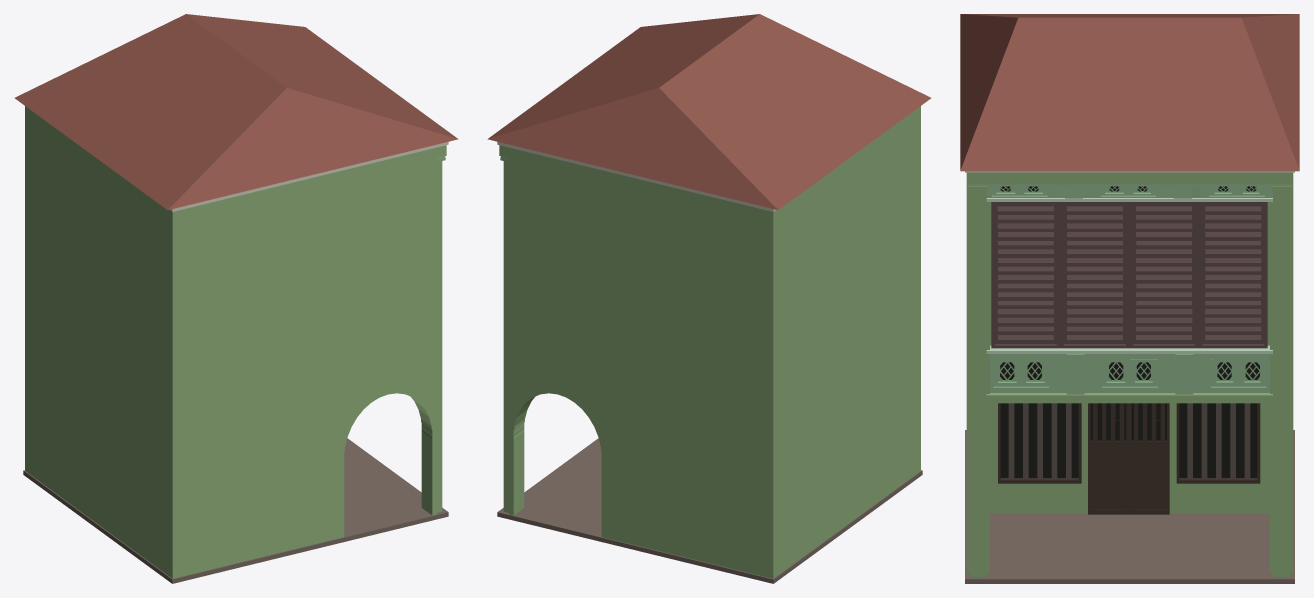
File: 1860 Shophouse.fbx
The picture shows the model from 3 angles, left to right: view 1: azimuth 30°, elevation 25°; view 2: azimuth 150°, elevation 25°; view 3: azimuth 270°, elevation 25°; orthographic projection. The views are drawn at different scales.
Visible parts, largest first — view 1: Cube, Cylinder, Cube.004, Cube.001; view 2: Cube, Cylinder, Cube.004, Cube.001; view 3: Cylinder, Cube.013, Cube, Cube.004, Cube.011, Cube.016, Cube.009, Cube.019, Cube.015, Cube.006, Cube.002, Cube.005 (+8 smaller).
Part boxes in pixels (<box>): Cube: <box>25,106,446,578</box>; Cylinder: <box>14,14,458,210</box>; Cube.004: <box>23,438,448,583</box>; Cube.001: <box>170,142,448,211</box>; Cube: <box>499,106,920,578</box>; Cylinder: <box>487,14,931,210</box>; Cube.004: <box>497,438,922,583</box>; Cube.001: <box>497,142,775,211</box>; Cylinder: <box>960,14,1299,171</box>; Cube.013: <box>991,202,1267,348</box>; Cube: <box>966,172,1293,576</box>; Cube.004: <box>965,430,1294,583</box>; Cube.011: <box>990,354,1269,394</box>; Cube.016: <box>1088,403,1169,514</box>; Cube.009: <box>1000,403,1078,477</box>; Cube.019: <box>1179,403,1257,477</box>; Cube.015: <box>986,186,1272,198</box>; Cube.006: <box>986,393,1272,403</box>; Cube.002: <box>1008,403,1071,478</box>; Cube.005: <box>1187,403,1250,478</box>.
Bounding box in the file's own units: 1136 × 1658 × 1037.
